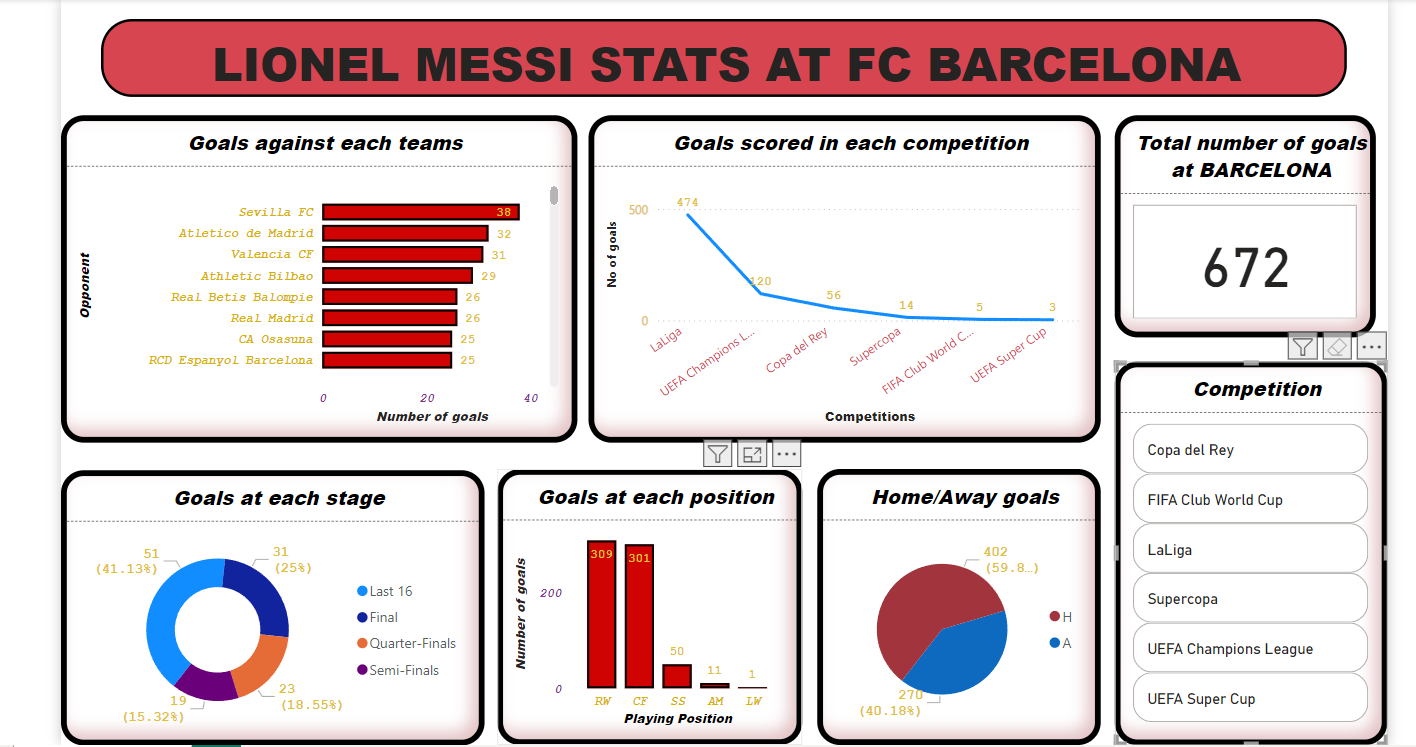

This screenshot's page, from the dashboard's own definition file:
{"tool":"powerbi","page":{"name":"Messi at Barcelona","canvas":[1280,720],"ordinal":0},"visuals":[{"type":"lineChart","title":"Goals scored in each competition","fields":{"Category":["Lionel Messi - All Goals for Barcelona.Competition"],"Y":["Lionel Messi - All Goals for Barcelona.Competition"]},"box":[509.1,112.2,494.6,316.1],"z":0},{"type":"advancedSlicerVisual","fields":{"Values":["Lionel Messi - All Goals for Barcelona.Competition"]},"box":[1017,349.9,263,370.4],"z":1000},{"type":"pieChart","title":"Home/Away goals","fields":{"Category":["Lionel Messi - All Goals for Barcelona.Venue"],"Y":["Lionel Messi - All Goals for Barcelona.Venue"]},"box":[729.9,453.6,273.9,266.6],"z":2000},{"type":"donutChart","title":"Goals at each stage","fields":{"Category":["Lionel Messi - All Goals for Barcelona.Matchday"],"Y":["Lionel Messi - All Goals for Barcelona.Matchday"]},"box":[0,454.8,409,265.4],"z":3000},{"type":"clusteredBarChart","title":"Goals against each teams","fields":{"Category":["Lionel Messi - All Goals for Barcelona.Opponent"],"Y":["Lionel Messi - All Goals for Barcelona.At_score"]},"box":[0,112.2,498.3,316.1],"z":4000},{"type":"clusteredColumnChart","title":"Goals at each position","fields":{"Category":["Lionel Messi - All Goals for Barcelona.Playing_Position"],"Y":["Lionel Messi - All Goals for Barcelona.At_score"]},"box":[421,453.6,294.4,266.6],"z":5000},{"type":"cardVisual","title":"Total number of goals at BARCELONA","fields":{"Data":["Lionel Messi - All Goals for Barcelona.Column1"]},"box":[1017,112.2,252.1,214.7],"z":6000},{"type":"card","title":"LIONEL MESSI STATS AT FC BARCELONA","fields":{"Values":["Lionel Messi - All Goals for Barcelona.Result"]},"box":[0,19.3,1269.2,74.8],"z":7000}]}

Visuals, with their boxes in screenshot pixels (x1, y1, x2, y2):
"Goals scored in each competition" lineChart: bbox(585, 115, 1092, 439)
advancedSlicerVisual - Lionel Messi - All Goals for Barcelona.Competition: bbox(1105, 359, 1375, 739)
"Home/Away goals" pieChart: bbox(811, 465, 1092, 738)
"Goals at each stage" donutChart: bbox(63, 466, 482, 738)
"Goals against each teams" clusteredBarChart: bbox(63, 115, 574, 439)
"Goals at each position" clusteredColumnChart: bbox(494, 465, 796, 738)
"Total number of goals at BARCELONA" cardVisual: bbox(1105, 115, 1364, 335)
"LIONEL MESSI STATS AT FC BARCELONA" card: bbox(63, 20, 1364, 96)
